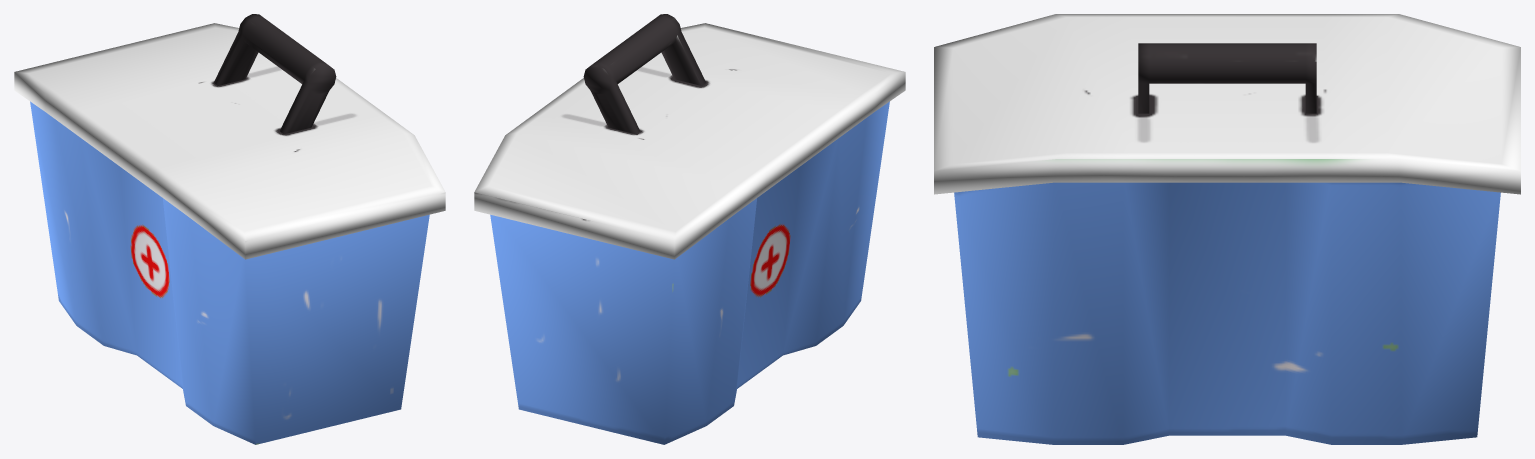
The model's file is health.glb.
3 renders of one model, left to right at view 1: azimuth 30°, elevation 25°; view 2: azimuth 150°, elevation 25°; view 3: azimuth 270°, elevation 25°, orthographic. The views are drawn at different scales.
Visible parts, largest first — view 1: Cube; view 2: Cube; view 3: Cube.
Part boxes in pixels (x1,y1,x2,y2): Cube: (14, 14, 445, 444); Cube: (474, 14, 905, 444); Cube: (934, 14, 1520, 444).
Size of the model in its own units: 0.9566 by 1.18 by 1.64.
Materials: 1 (1 with a texture image).
